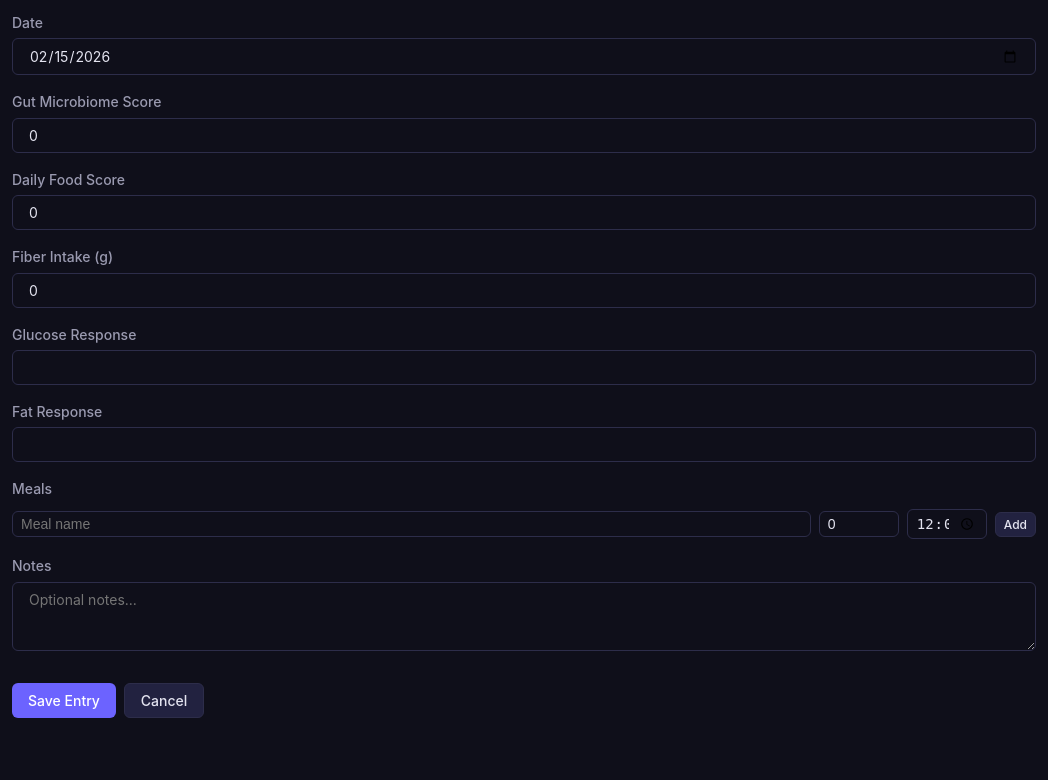
Test: MetabolicForm › supports adding meals
In the field with test id "meal-name": (411, 524) [12,511,811,537], type "Lunch"
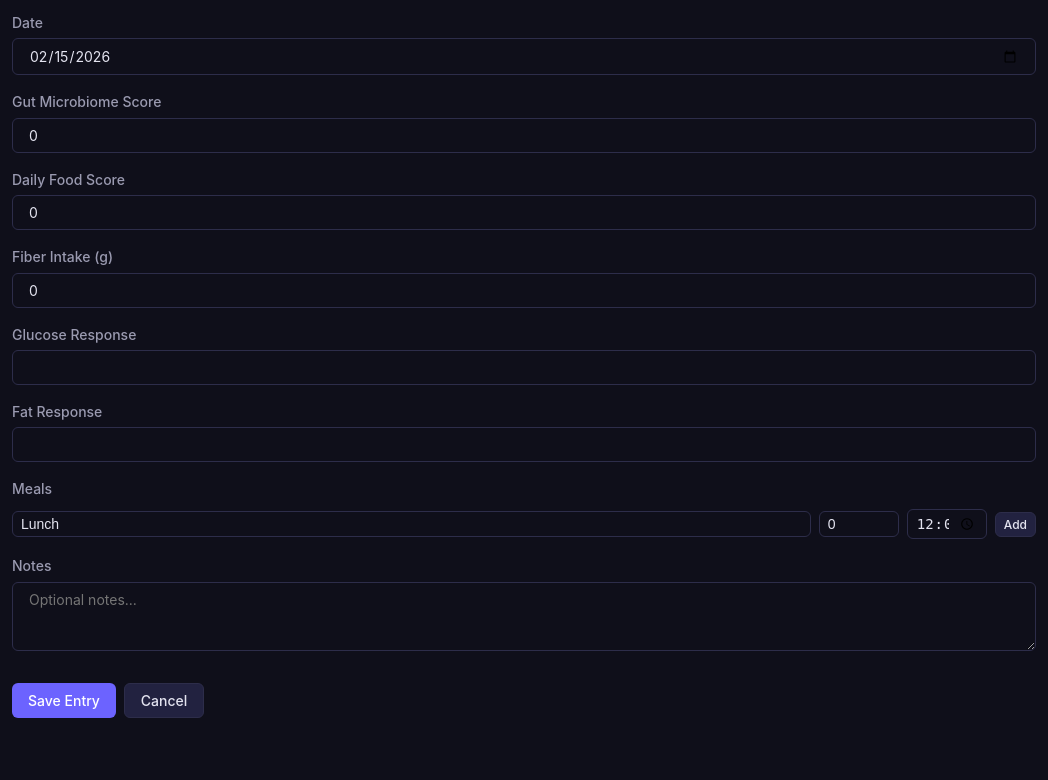
Replace the text in the number field with test id "meal-score" with "85": (859, 524) [819,511,899,537]
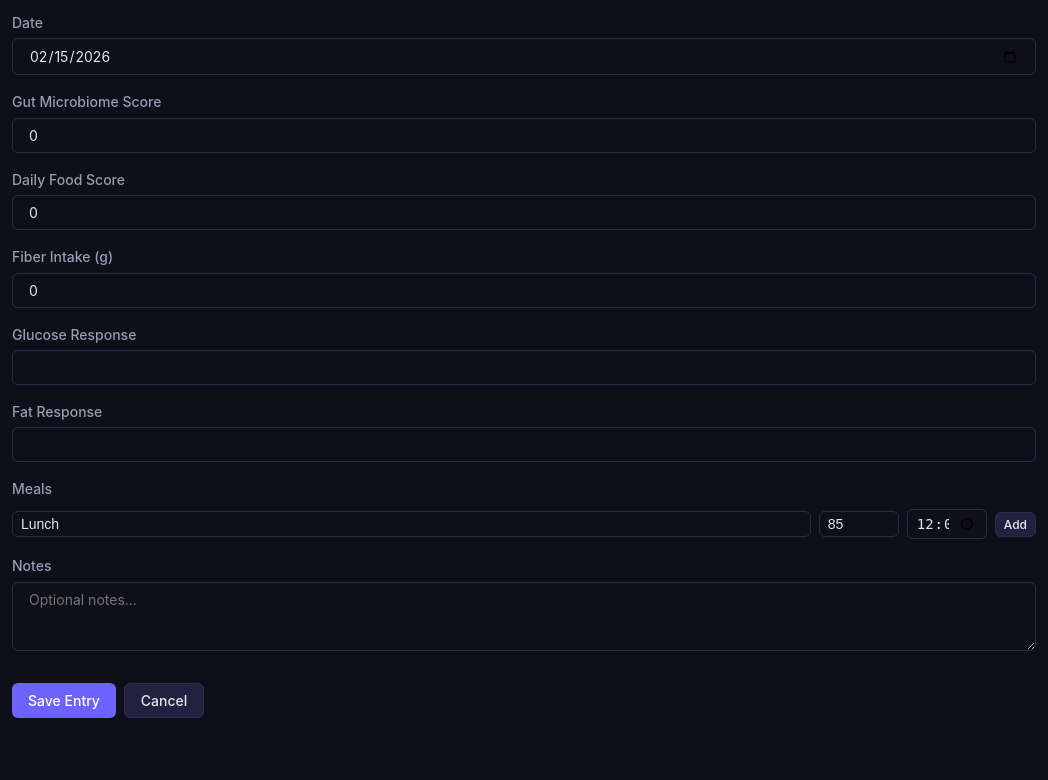
Click the button "Add": (1015, 524) [995,512,1036,537]
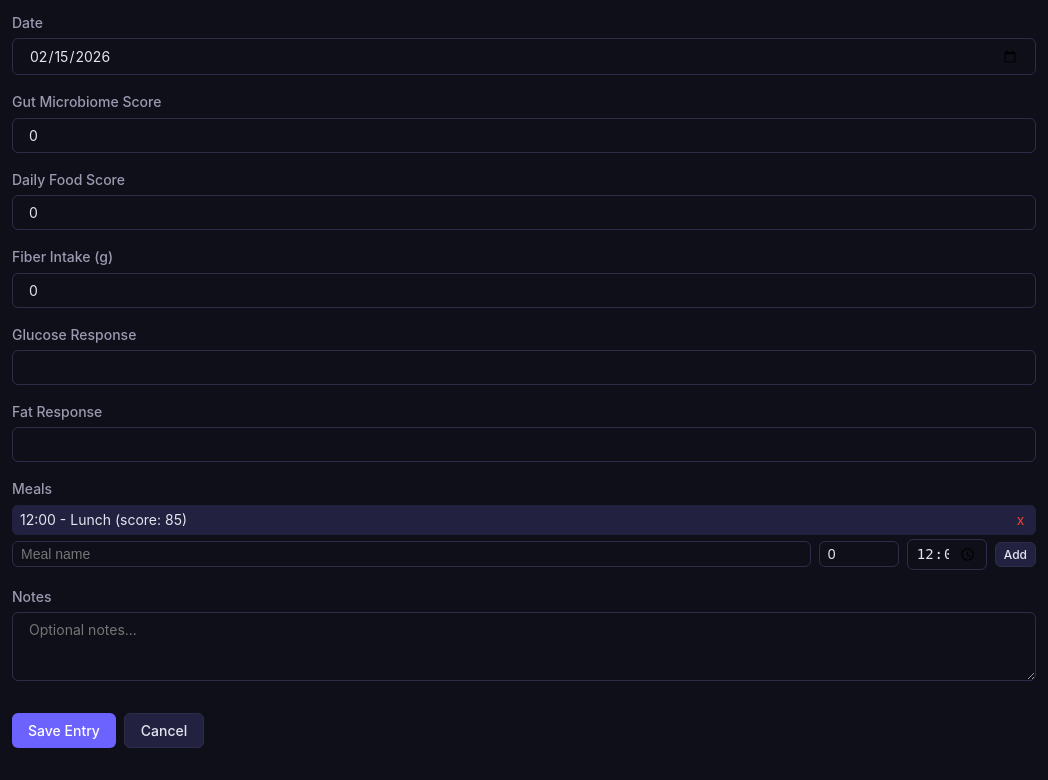
Result: the text "Lunch" is shown at [20,511,187,528]
